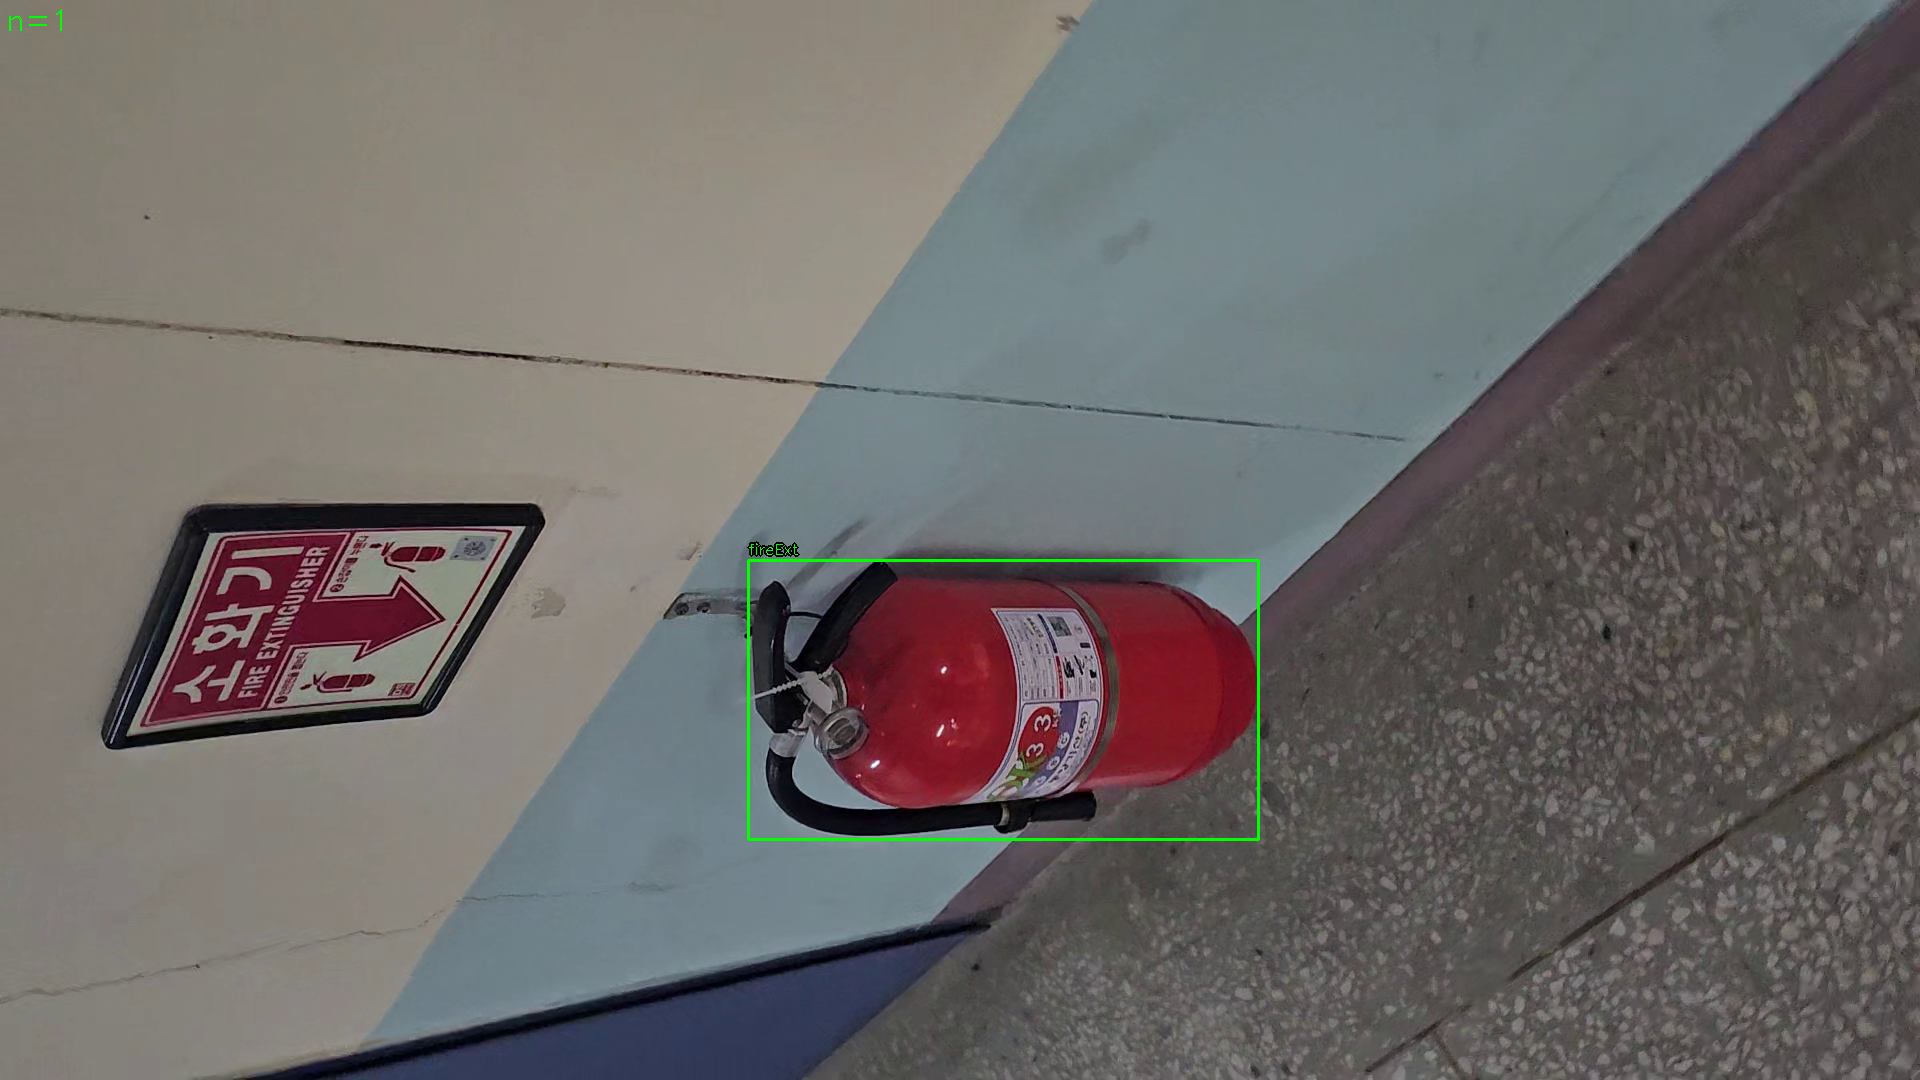lane: (748, 560, 1259, 840)
